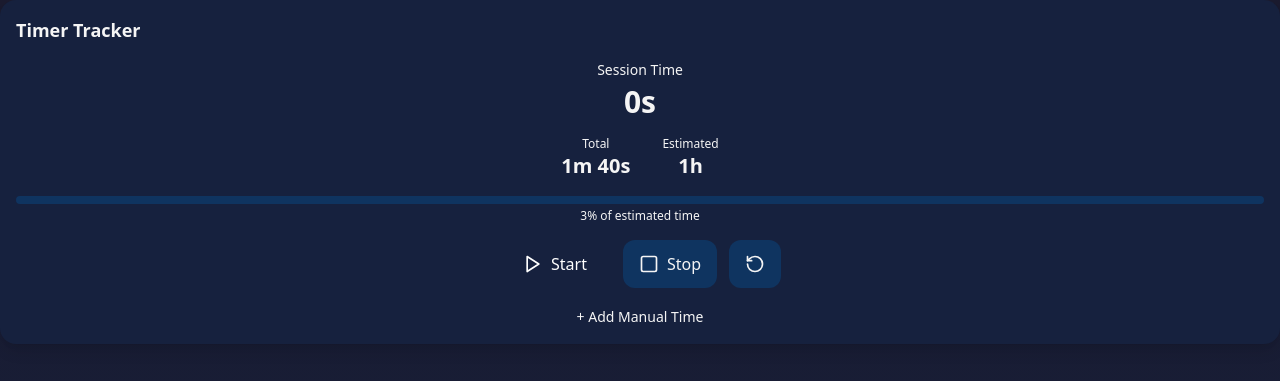
Test: TimerTracker › should show Pause button when timer is running
What coordinates should you click on to do the following:
click the button "Start"
I would click on:
 (555, 264)
Its box is [499,240,611,288].
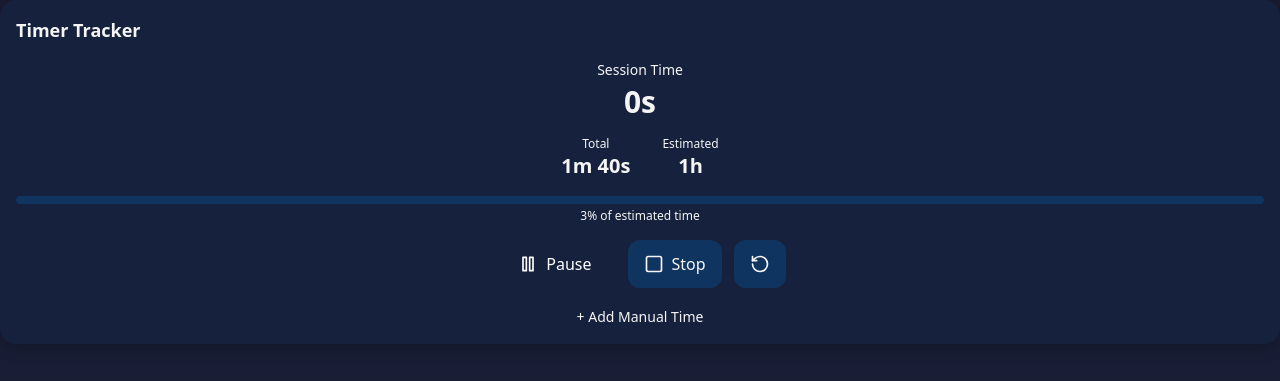
expect the button "Pause" is shown: met, box [494,240,616,288]
